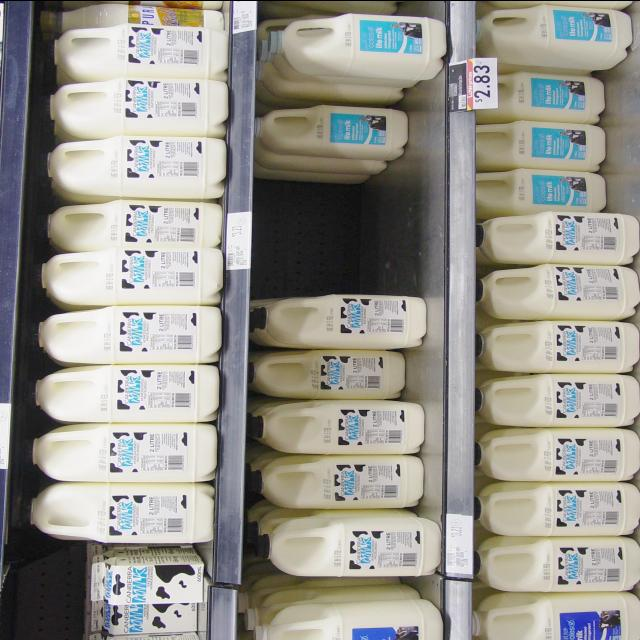empty_space: (259, 169, 425, 290)
